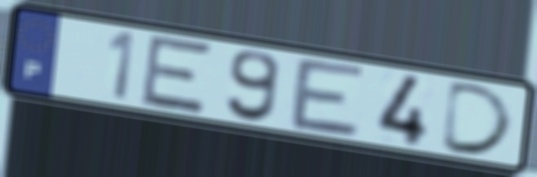1: (105, 31, 138, 104)
4: (373, 71, 432, 150)
9: (226, 48, 284, 125)
D: (437, 79, 518, 158)
E: (287, 55, 370, 142), (137, 32, 217, 117)
